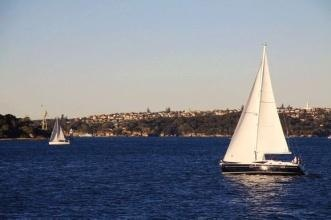fanchuan: (218, 42, 303, 175), (46, 117, 71, 149)
